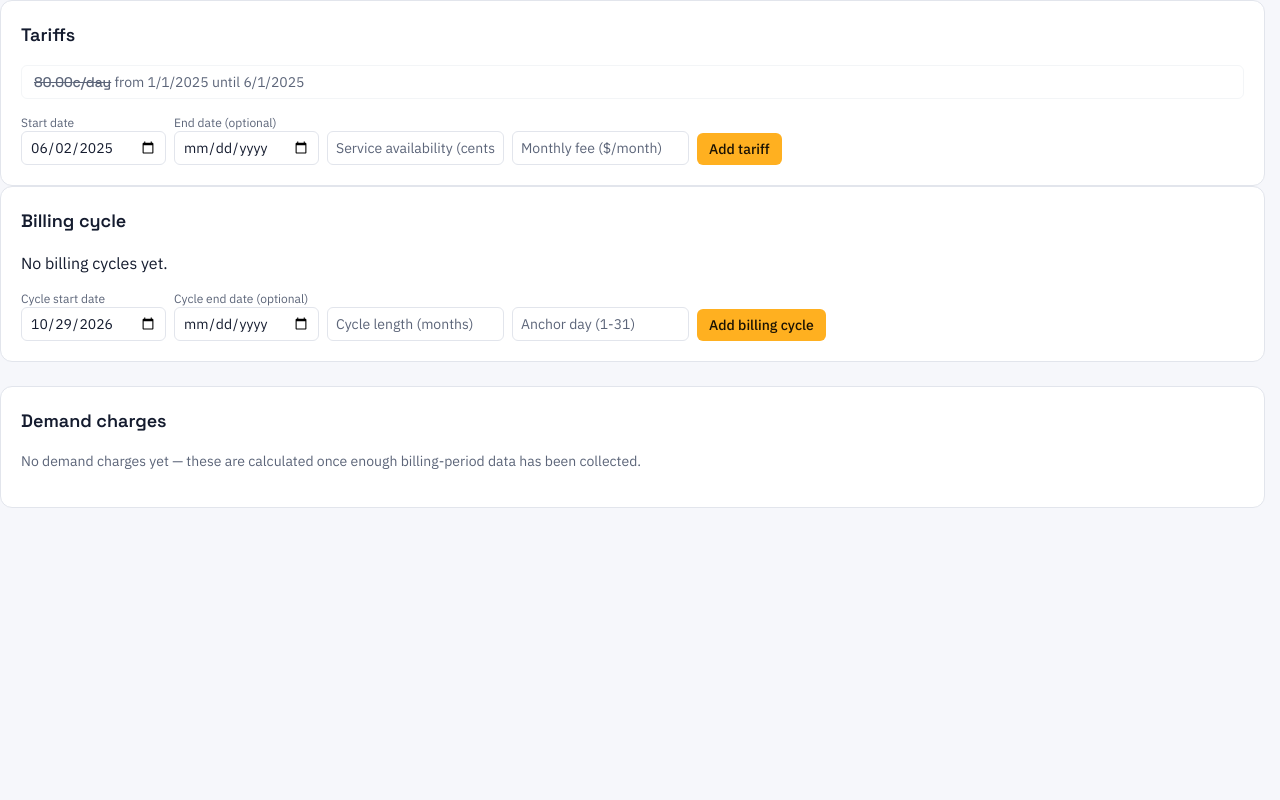
Scenario: Billing tabs › toggles an ended tariff's demand windows open and closed on click
This screenshot has width=1280, height=800.
Expected: the text "Winter peak" is not shown
Click the text "80.00c/day": coordinates (53, 82) [34,73,111,91]
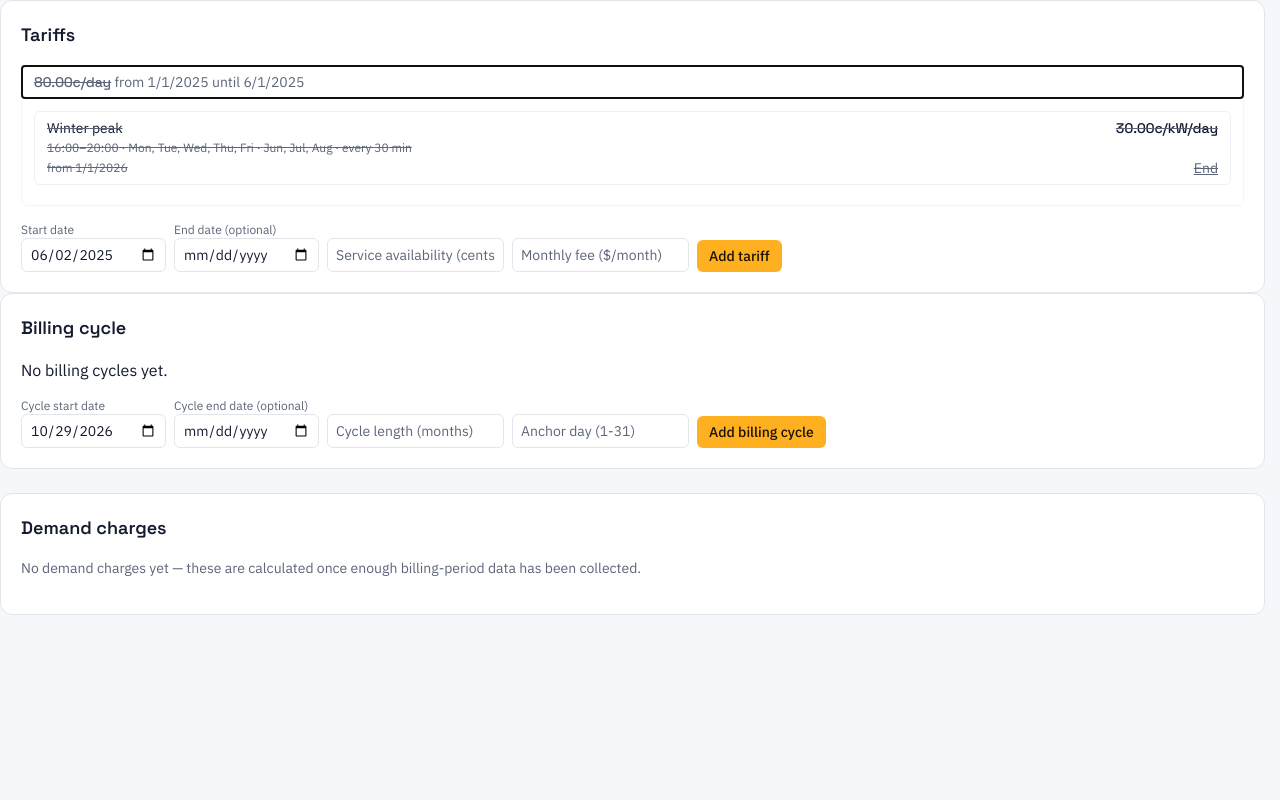
Expected: the text "Winter peak" is shown, [47,118,123,138]
Click the text "80.00c/day": coordinates (53, 82) [34,73,111,91]
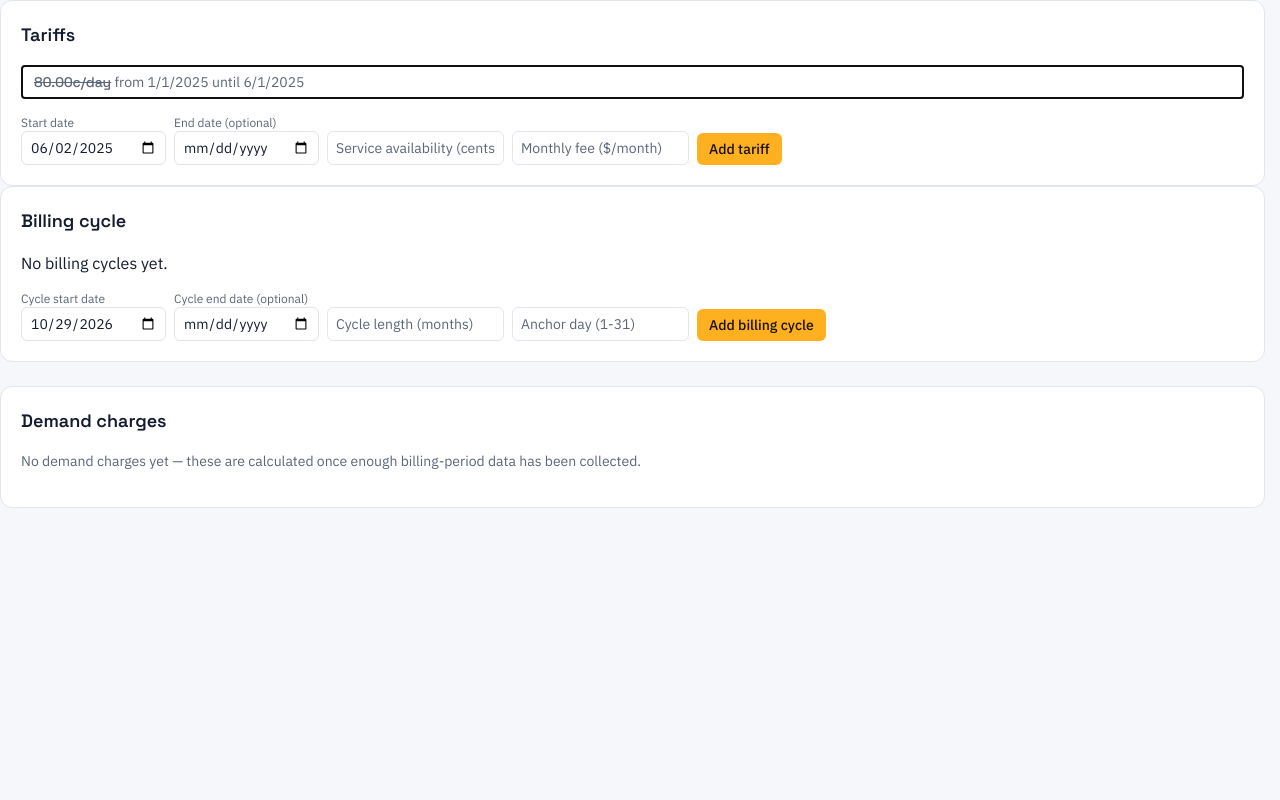
Expected: the text "Winter peak" is gone
